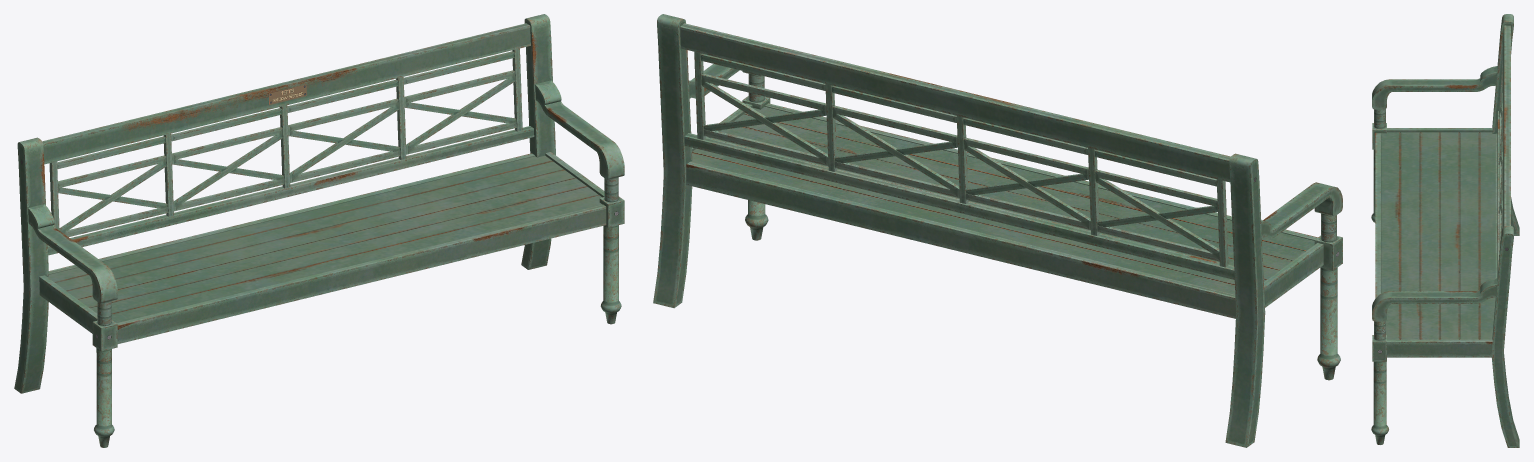
File: Bench_01.fbx
3 views of the same model, side by side, from view 1: azimuth 30°, elevation 25°; view 2: azimuth 150°, elevation 25°; view 3: azimuth 270°, elevation 25° (orthographic). The views are drawn at different scales.
Visible parts, largest first — view 1: Bench_01_LOD0; view 2: Bench_01_LOD0; view 3: Bench_01_LOD0.
Part boxes in pixels (x1,y1,x2,y2): Bench_01_LOD0: [14, 14, 624, 447]; Bench_01_LOD0: [653, 14, 1342, 447]; Bench_01_LOD0: [1371, 14, 1519, 447].
Size of what is drawn, in the model's own units: 209 by 94.88 by 59.63.
